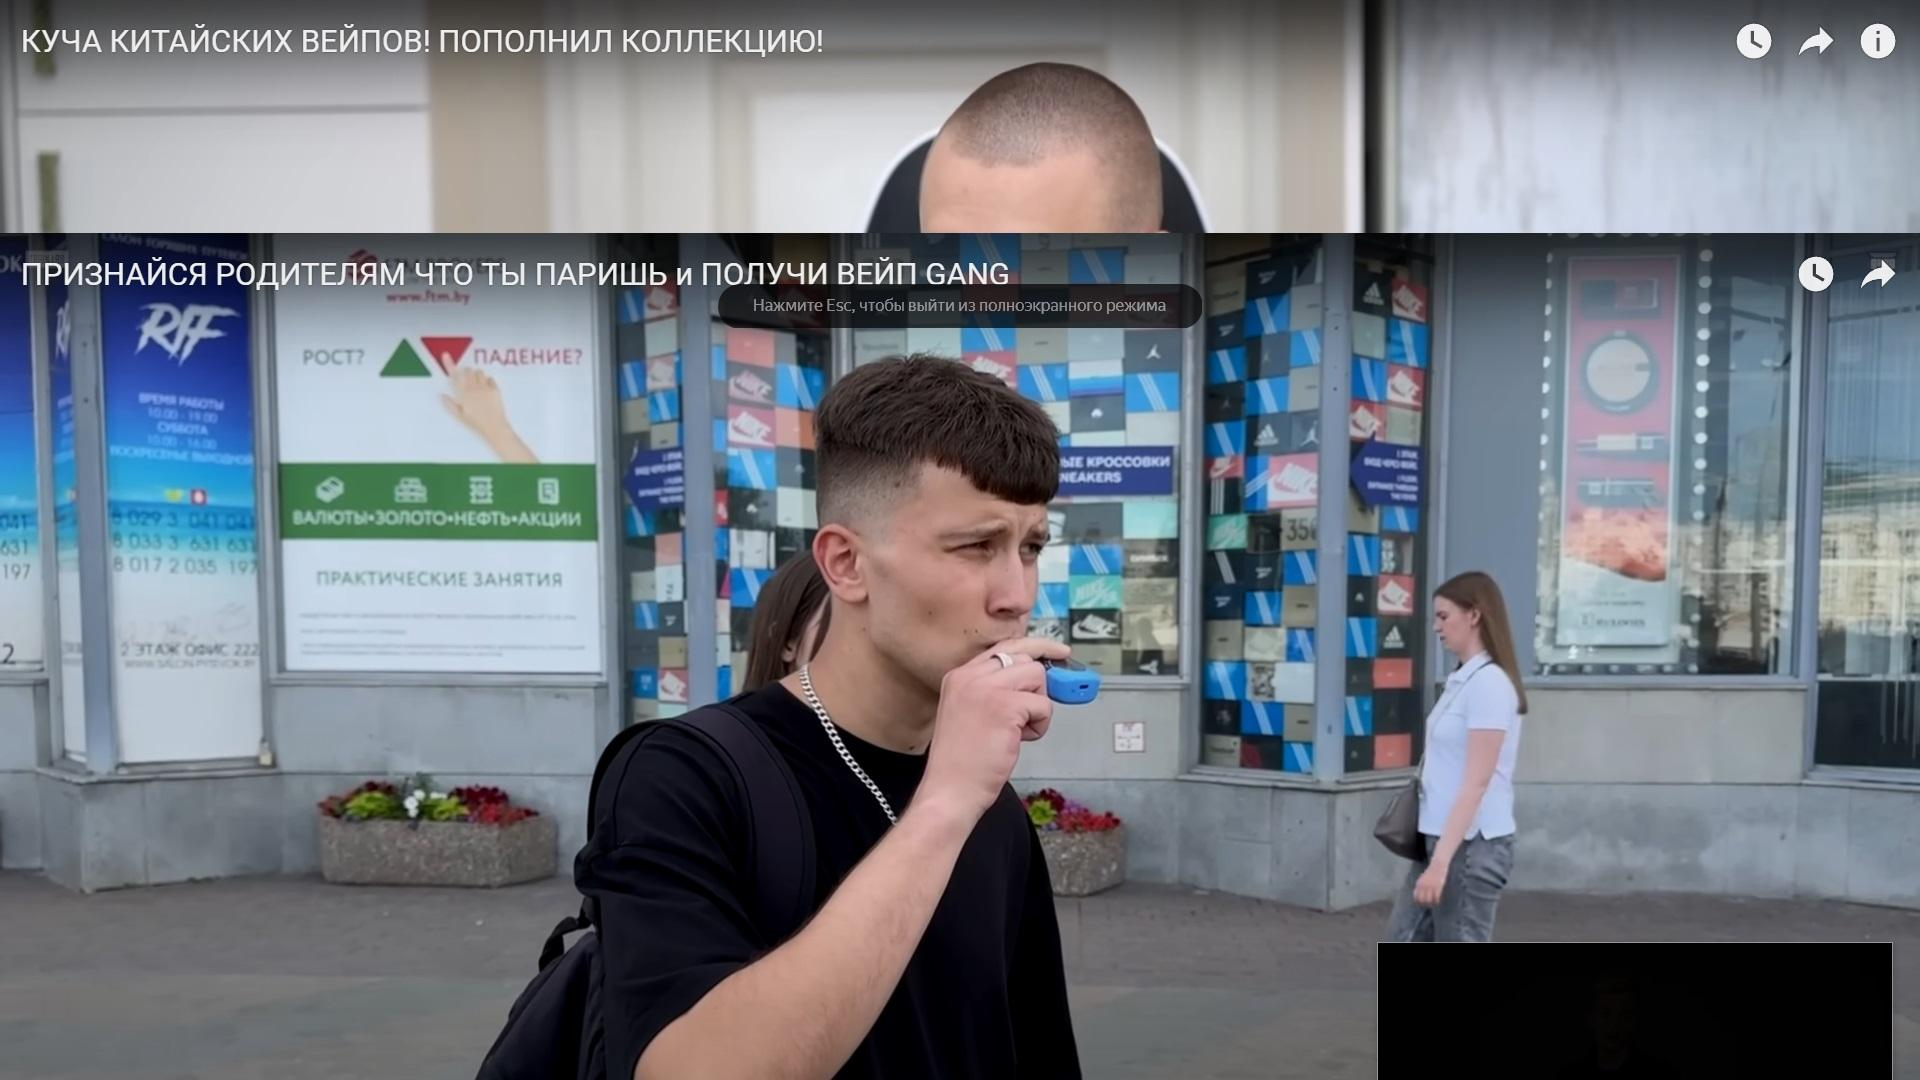Vape: (1038, 658, 1101, 705)
